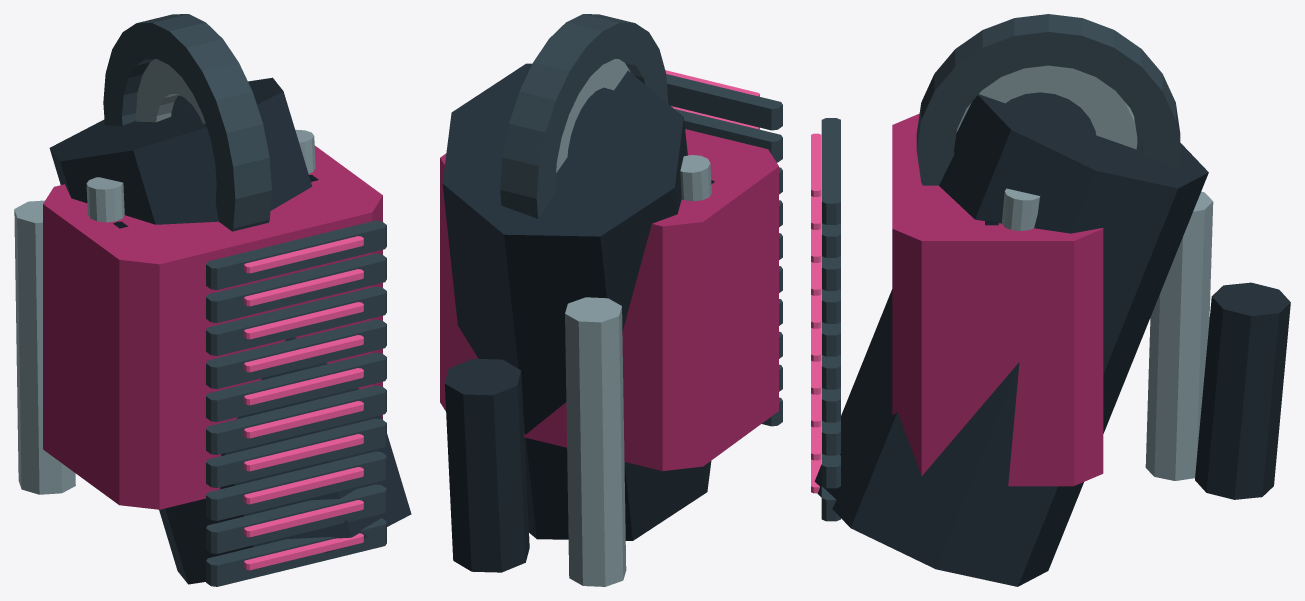
Rendered from enemy_striker_4k_thigh_r.obj.
The picture shows the model from 3 angles, left to right: view 1: azimuth 30°, elevation 25°; view 2: azimuth 150°, elevation 25°; view 3: azimuth 270°, elevation 25°; orthographic projection.
Size of the model in its own units: 0.3939 by 0.6852 by 0.5678.
